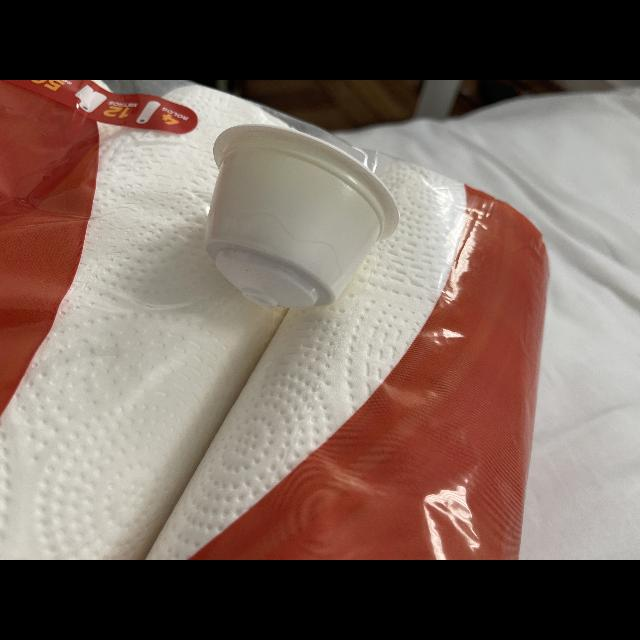intact_capsule: (192, 118, 410, 322)
